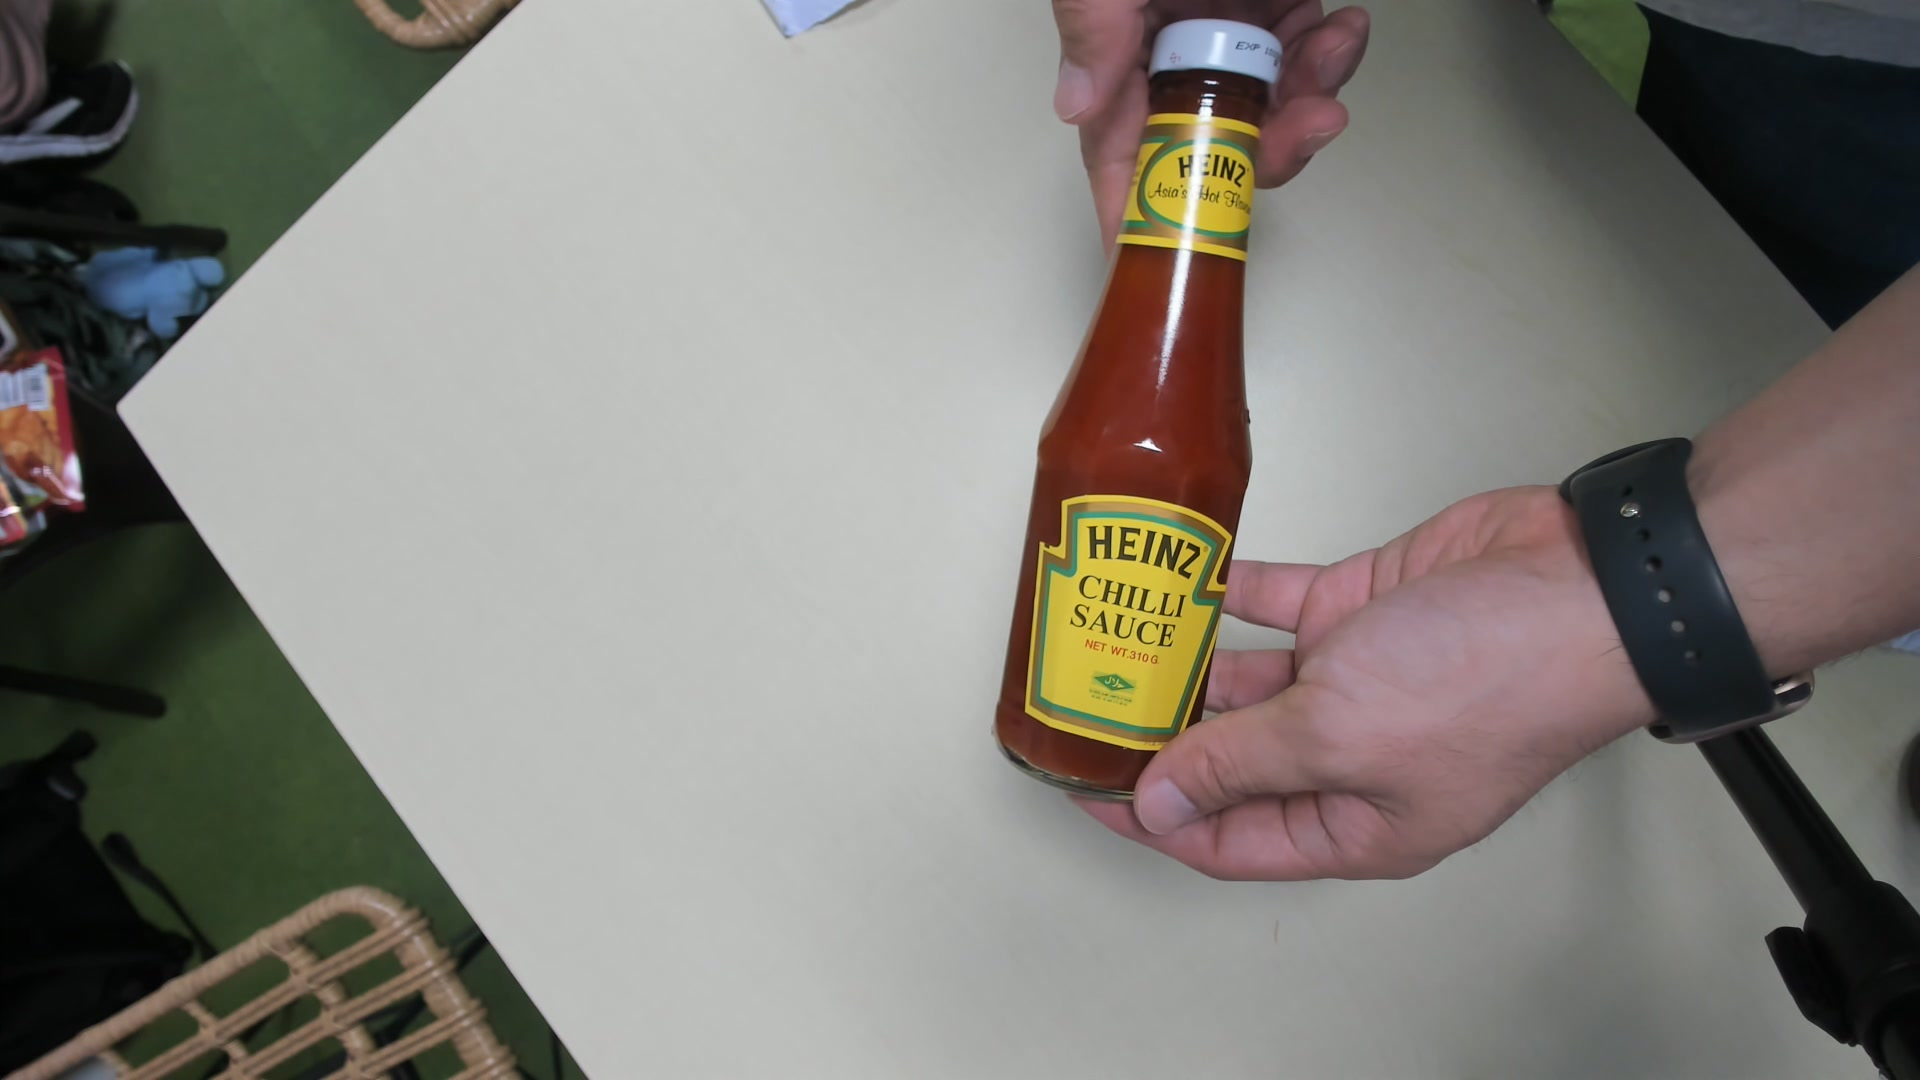KetchupChillSauce_300-399g_Halal_NonHealthy: (990, 13, 1291, 803)
